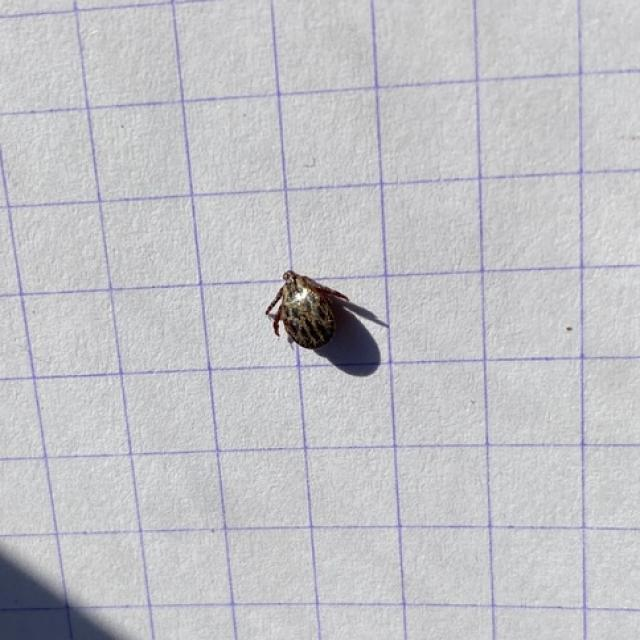Dermacentor Reticulatus-M: (266, 270, 349, 349)
